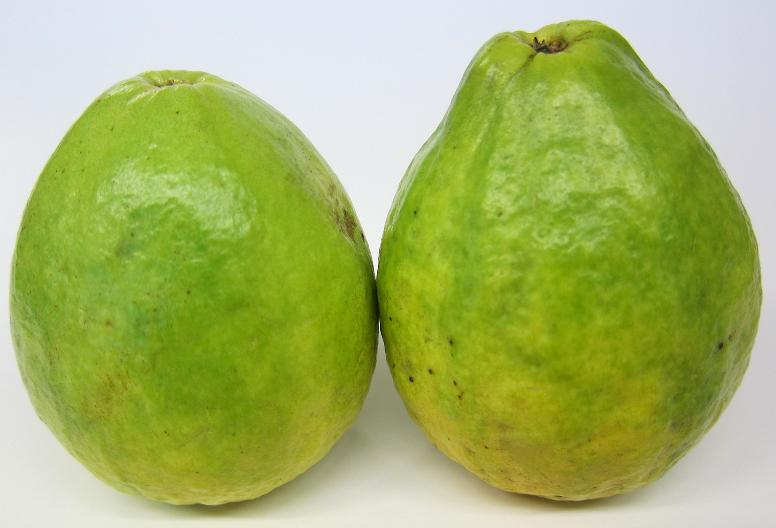guava_B: (376, 20, 763, 502), (7, 69, 377, 507)
